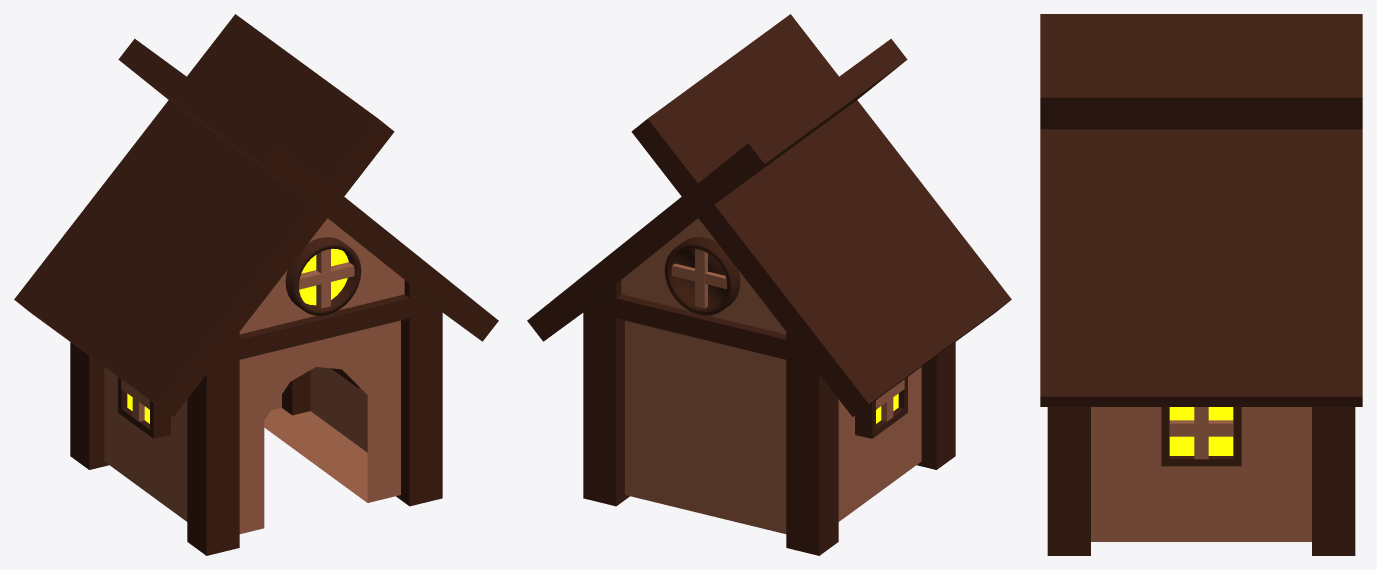
The model's file is spawn.fbx.
The picture shows the model from 3 angles, left to right: view 1: azimuth 30°, elevation 25°; view 2: azimuth 150°, elevation 25°; view 3: azimuth 270°, elevation 25°; orthographic projection. The views are drawn at different scales.
Parts seen in each view (by area): view 1: Cube; view 2: Cube; view 3: Cube.
Part boxes in pixels (x1=…): Cube: x1=14, y1=14, x2=498, y2=555; Cube: x1=527, y1=14, x2=1011, y2=555; Cube: x1=1040, y1=14, x2=1362, y2=555.
Size of the model in its own units: 332 by 369 by 240.
